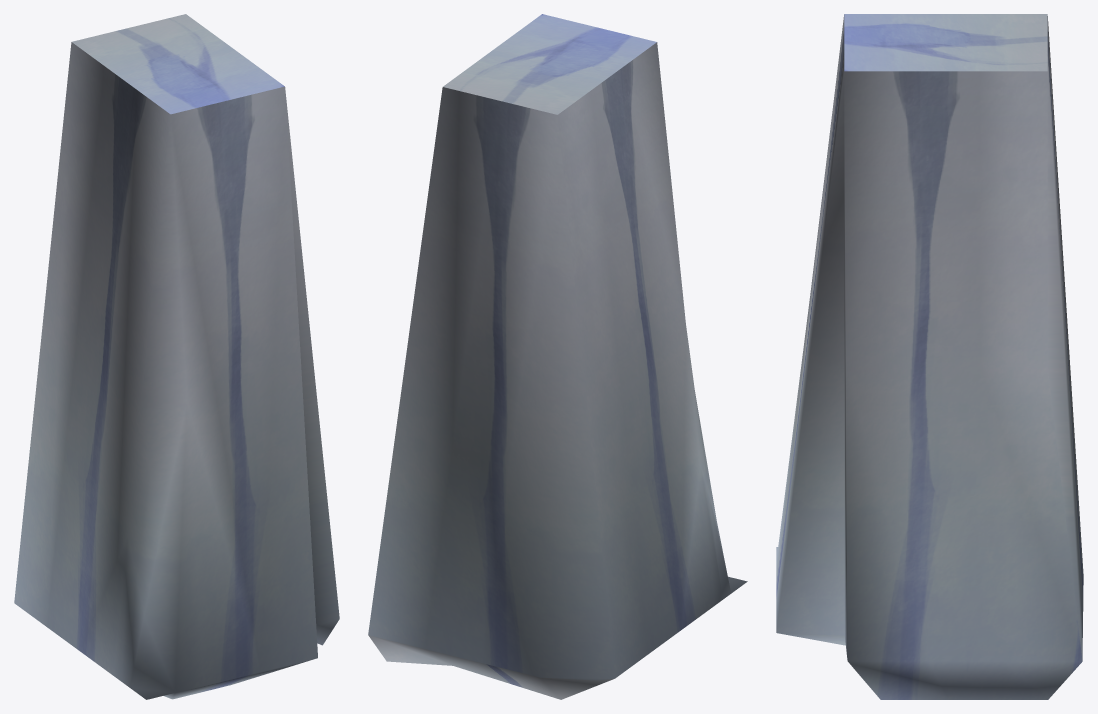
File: rockeroo_small_bald.glb
3 renders of one model, left to right at view 1: azimuth 30°, elevation 25°; view 2: azimuth 150°, elevation 25°; view 3: azimuth 270°, elevation 25°, orthographic. The views are drawn at different scales.
Visible parts, largest first — view 1: rockeroo_small_bald; view 2: rockeroo_small_bald; view 3: rockeroo_small_bald.
Boxes of the visible parts, x1,y1,x2,y2 form: rockeroo_small_bald: (14, 14, 339, 699); rockeroo_small_bald: (368, 14, 747, 699); rockeroo_small_bald: (776, 14, 1083, 699).
Size of the model in its own units: 8.43 by 21.01 by 9.54.
Materials: 1 (1 with a texture image).
